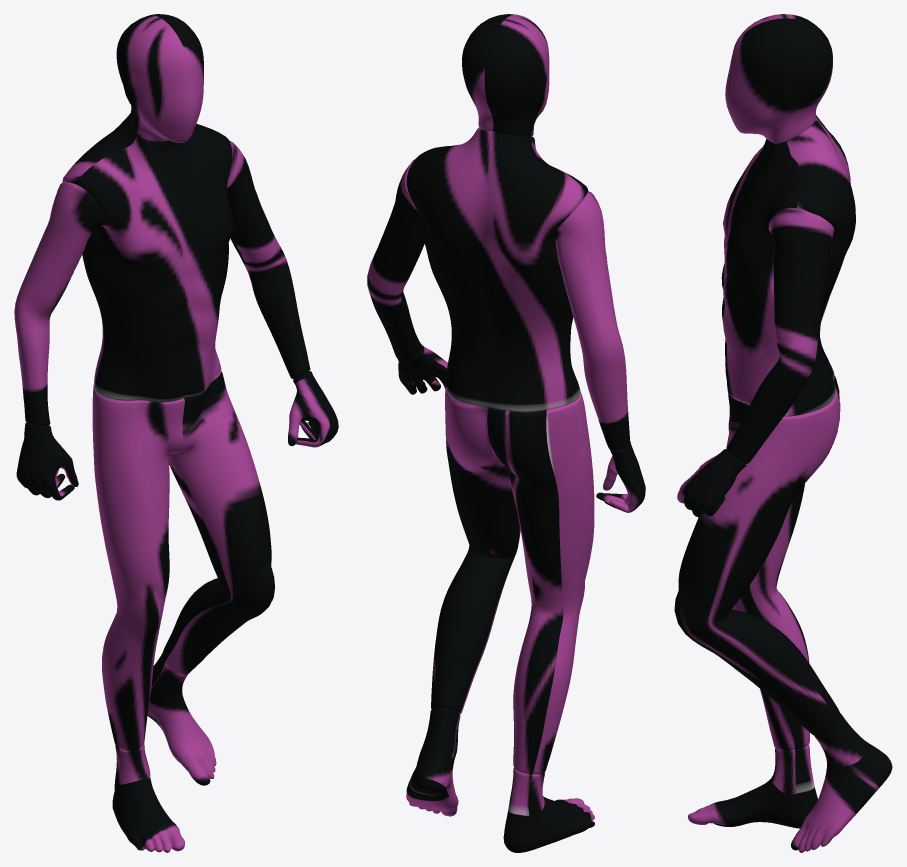
3 views of the same model, side by side, from view 1: azimuth 30°, elevation 25°; view 2: azimuth 150°, elevation 25°; view 3: azimuth 270°, elevation 25° (orthographic). The views are drawn at different scales.
Visible parts, largest first — view 1: Ch36; view 2: Ch36; view 3: Ch36.
Part boxes in pixels (<box>): Ch36: <box>14,14,338,852</box>; Ch36: <box>367,14,645,852</box>; Ch36: <box>674,14,892,852</box>.
Size of the model in its own units: 63.95 by 175 by 42.29.
Materials: 1 (1 with a texture image).
